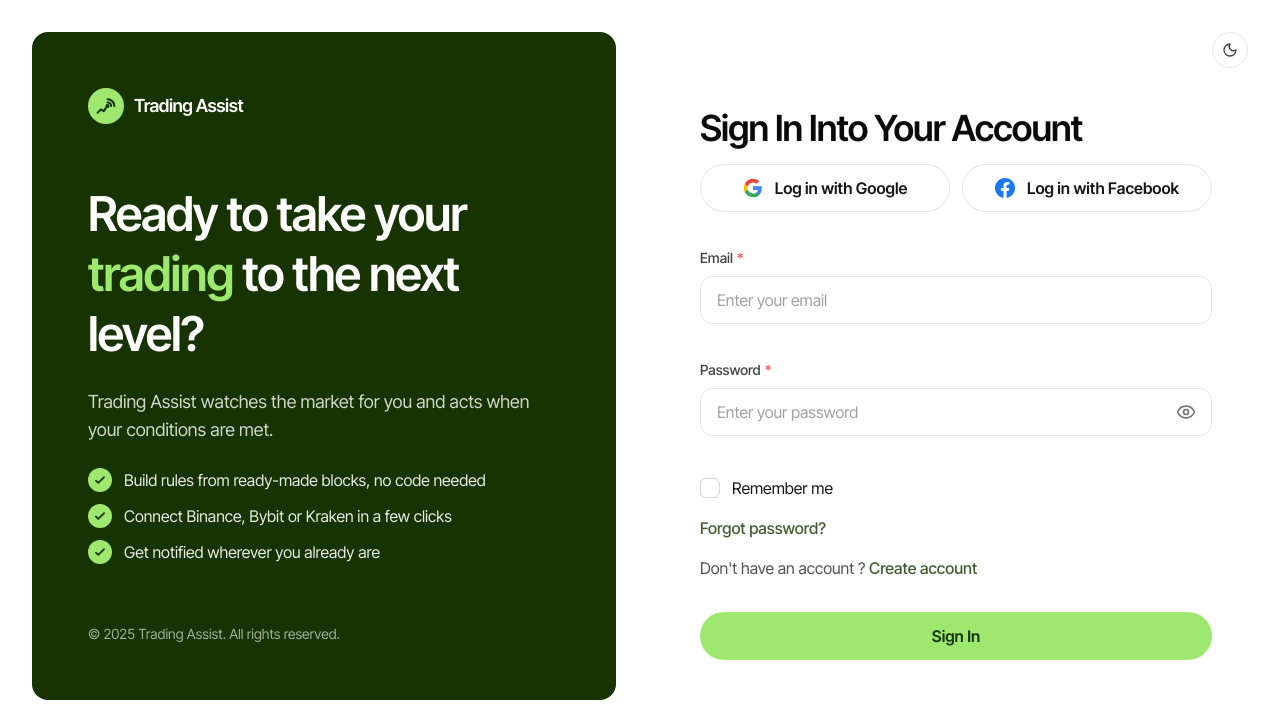
Scenario: SignIn › Validation (client-side) › enables submit button when form becomes valid
The width and height of the screenshot is (1280, 720).
Click the button "Sign In" at (956, 636), box [700,612,1212,660]
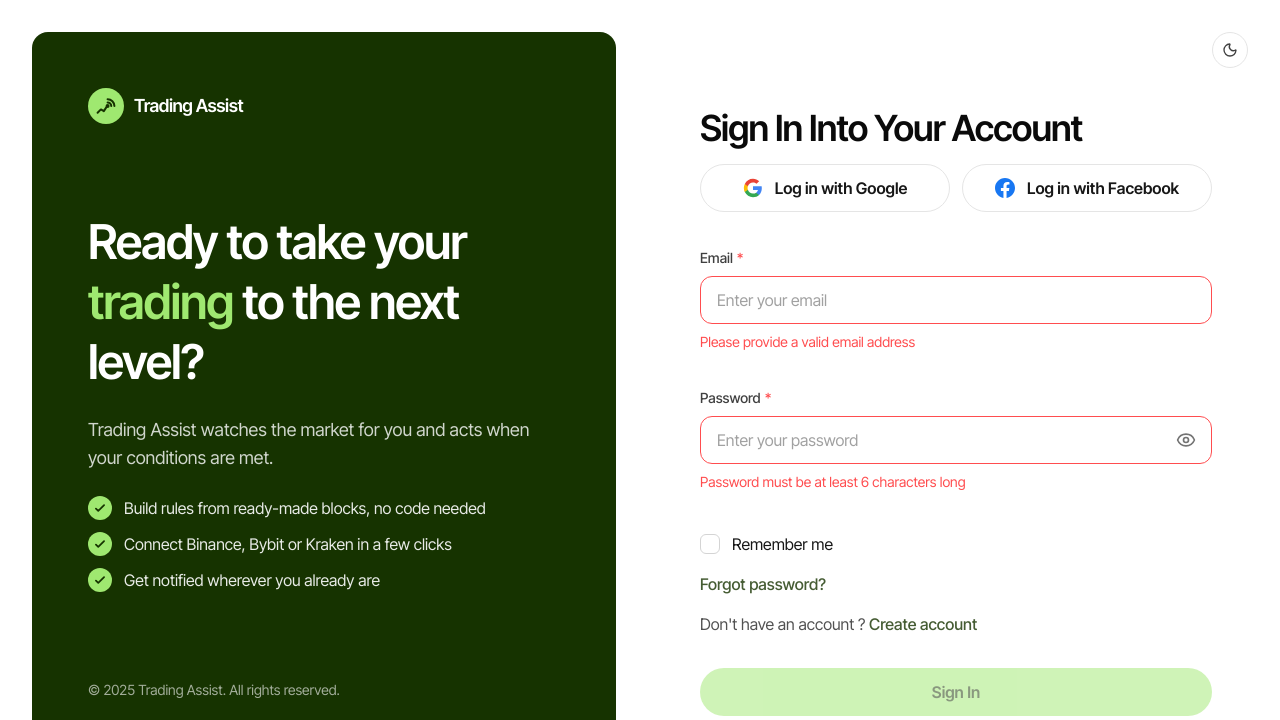
Check: the button "Sign In" is disabled, box [700,668,1212,716]
Type "test@example.com" into the field labelled "Email*" at (956, 300), box [700,276,1212,324]
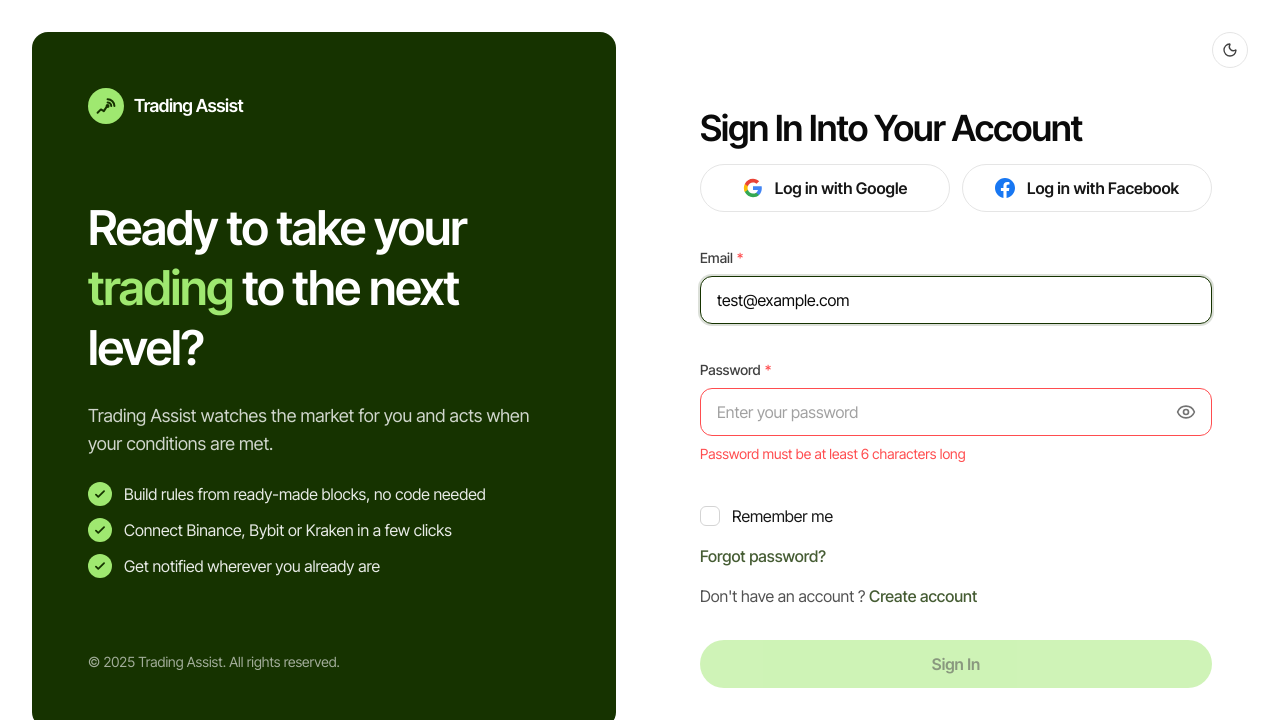
Type "Password123*" into the password field with placeholder "Enter your password" at (956, 412), box [700,388,1212,436]
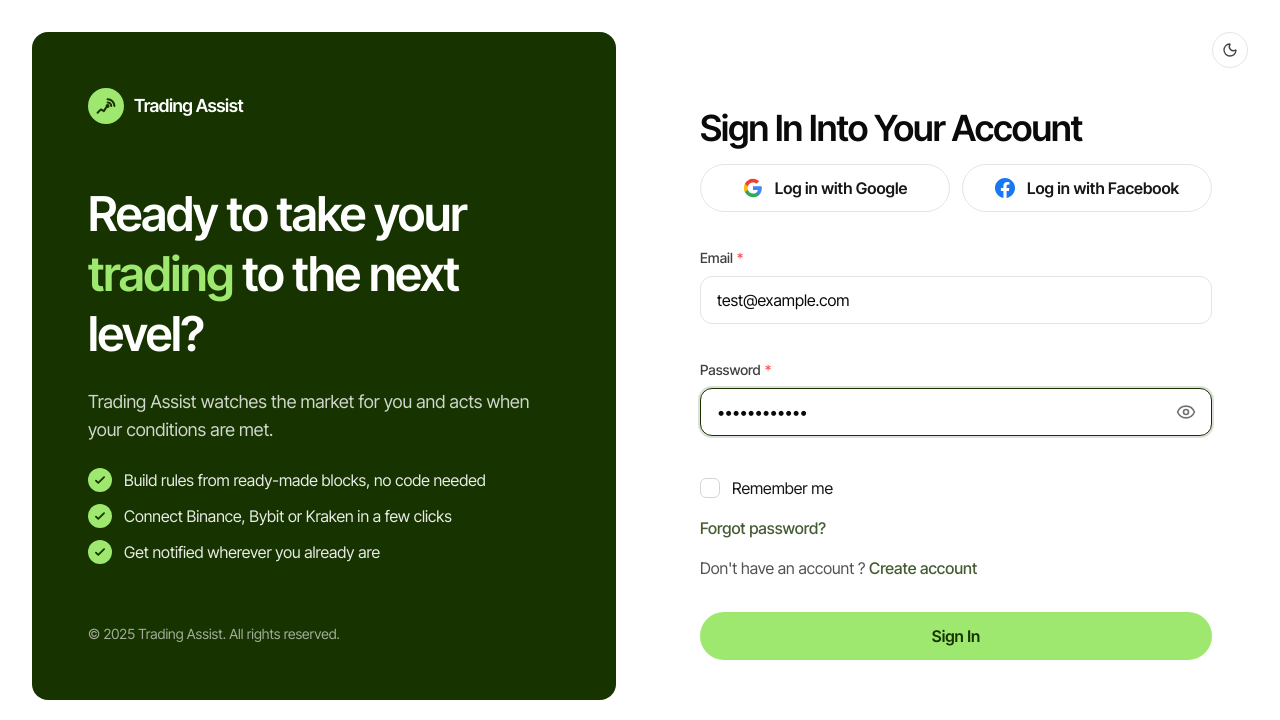
Check: the button "Sign In" is enabled, box [700,612,1212,660]
